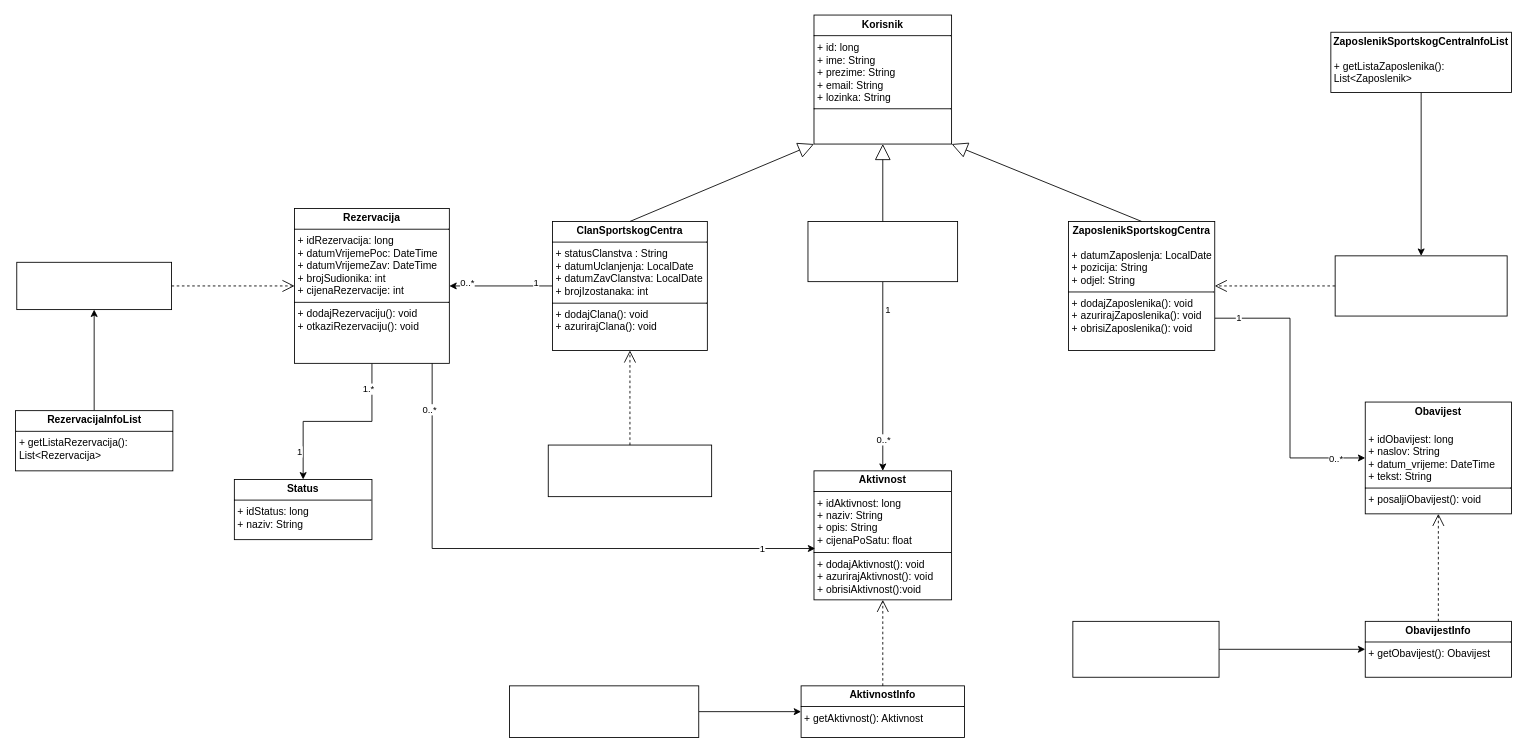
Some shapes in this 1527 by 753 pixel diagram are drawn without their labels. The centre of each missing label's shape, as x and y in pixels:
"Administrator + datumZaposlenja:LocalDate" belongs at point (882, 251).
"AktivnostInfoList + getListaAktivnosti(): List<Aktivnost>" belongs at point (604, 711).
"ClanSportskogCentraInfo + getClan(): ClanSportskogCentra" belongs at point (629, 470).
"ObavijestInfoList + getListaObavijesti(): List<Obavijest>" belongs at point (1145, 648).
"RezervacijaInfo + getRezervacija(): Rezervacija" belongs at point (94, 285).
"ZaposlenikSportskogCentraInfo + getZaposlenik(): Zaposlenik" belongs at point (1420, 285).
